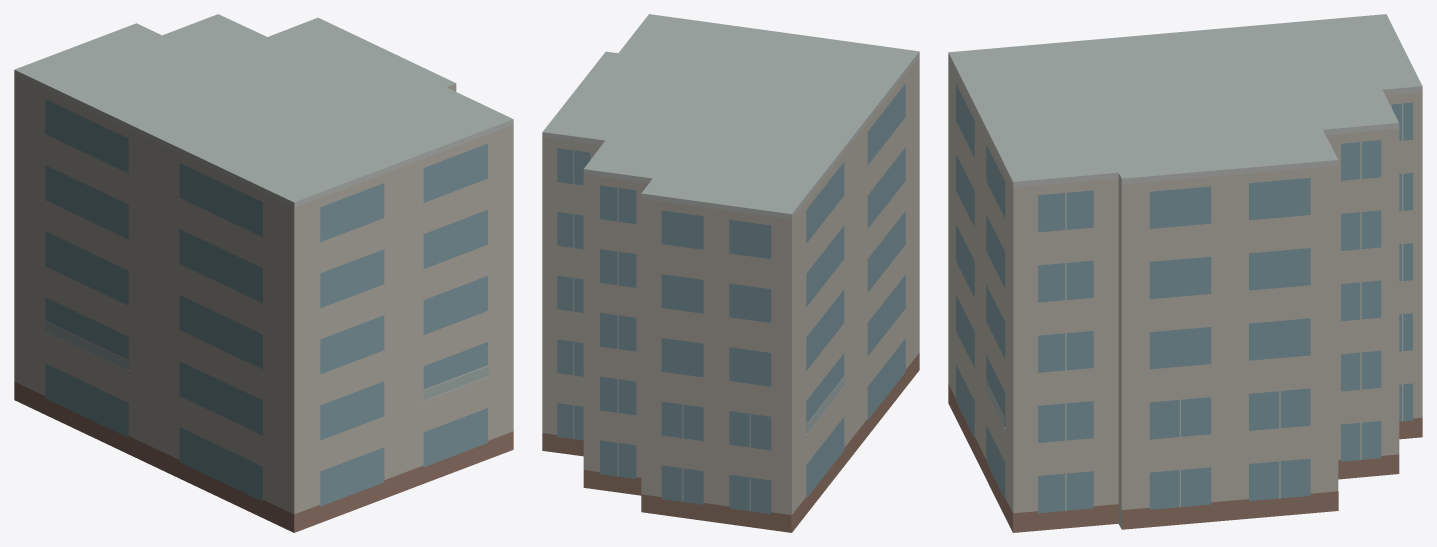
The model's file is survey-upis-32618691.glb.
The picture shows the model from 3 angles, left to right: view 1: azimuth 30°, elevation 25°; view 2: azimuth 150°, elevation 25°; view 3: azimuth 270°, elevation 25°; orthographic projection. The views are drawn at different scales.
Parts seen in each view (by area): view 1: survey-upis-32618691.tmp; view 2: survey-upis-32618691.tmp; view 3: survey-upis-32618691.tmp.
Boxes of the visible parts, left/top/right/bottom form: survey-upis-32618691.tmp: left=14, top=14, right=513, bottom=532; survey-upis-32618691.tmp: left=542, top=14, right=919, bottom=532; survey-upis-32618691.tmp: left=948, top=14, right=1422, bottom=532.
Size of the model in its own units: 15.39 by 15 by 18.37.
